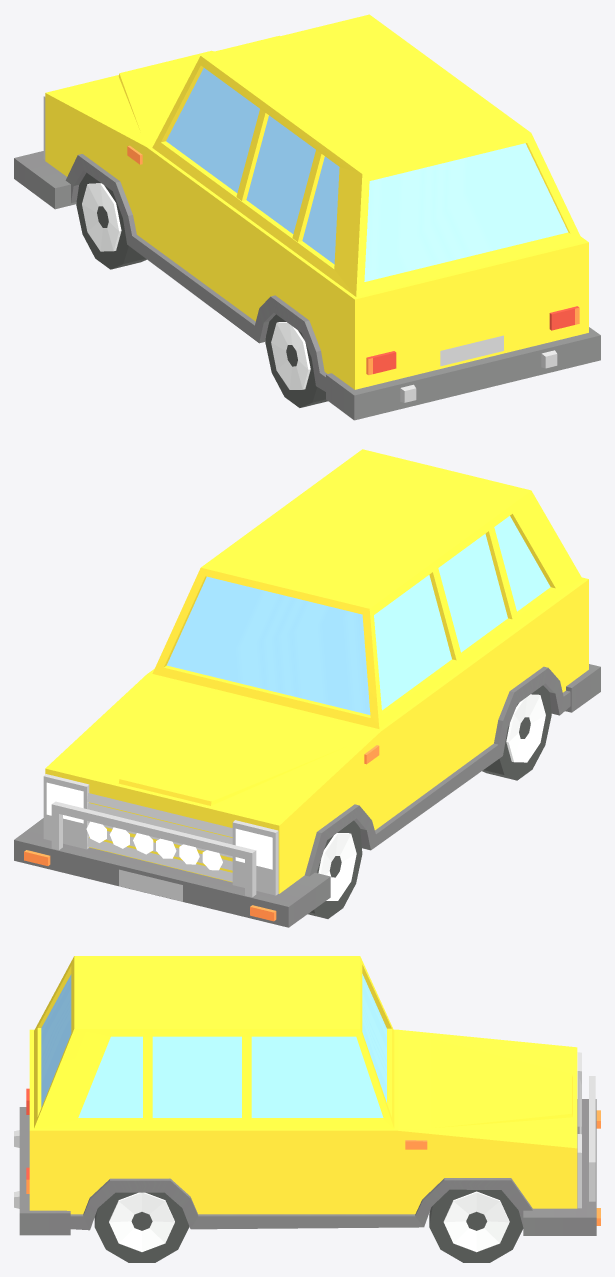
Rendered from transport_cool.008.glb.
3 views of the same model, one above another, from view 1: azimuth 30°, elevation 25°; view 2: azimuth 150°, elevation 25°; view 3: azimuth 270°, elevation 25° (orthographic). The views are drawn at different scales.
Visible parts, largest first — view 1: transport_cool.008(Clone); view 2: transport_cool.008(Clone); view 3: transport_cool.008(Clone).
Boxes of the visible parts, left/top/right/bottom form: transport_cool.008(Clone): left=14, top=14, right=600, bottom=420; transport_cool.008(Clone): left=14, top=449, right=600, bottom=927; transport_cool.008(Clone): left=14, top=956, right=600, bottom=1262.
Bounding box in the file's own units: 1.7 × 1.47 × 3.55.
1 material, 1 textured.
